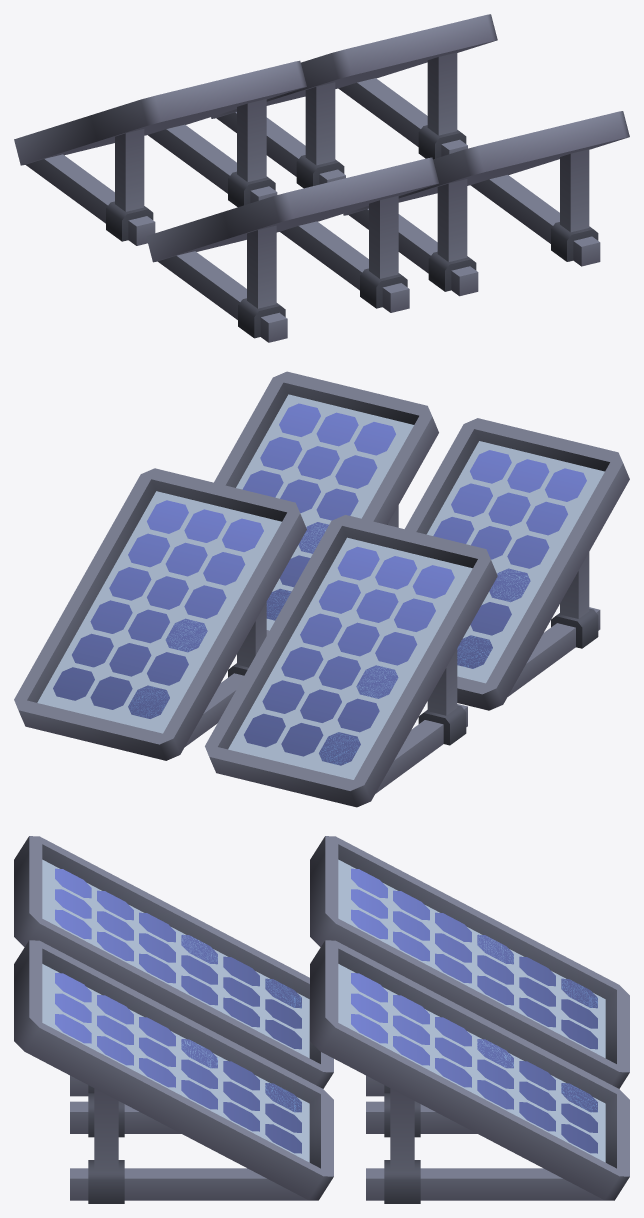
The model's file is solar-array.glb.
The picture shows the model from 3 angles, top to bottom: view 1: azimuth 30°, elevation 25°; view 2: azimuth 150°, elevation 25°; view 3: azimuth 270°, elevation 25°; orthographic projection. The views are drawn at different scales.
Visible parts, largest first — view 1: solar-panel-portrait-group; view 2: solar-panel-portrait-group; view 3: solar-panel-portrait-group.
Boxes of the visible parts, x1,y1,x2,y2 form: solar-panel-portrait-group: [14, 14, 629, 342]; solar-panel-portrait-group: [14, 371, 629, 807]; solar-panel-portrait-group: [14, 836, 629, 1203].
Bounding box in the file's own units: 0.9182 × 0.41 × 1.25.
2 materials, 2 textured.
